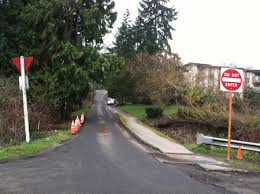doNotEnter: (220, 66, 243, 92)
